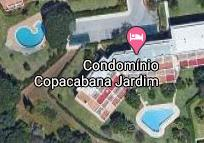pool: (140, 106, 176, 133), (15, 21, 46, 50)
